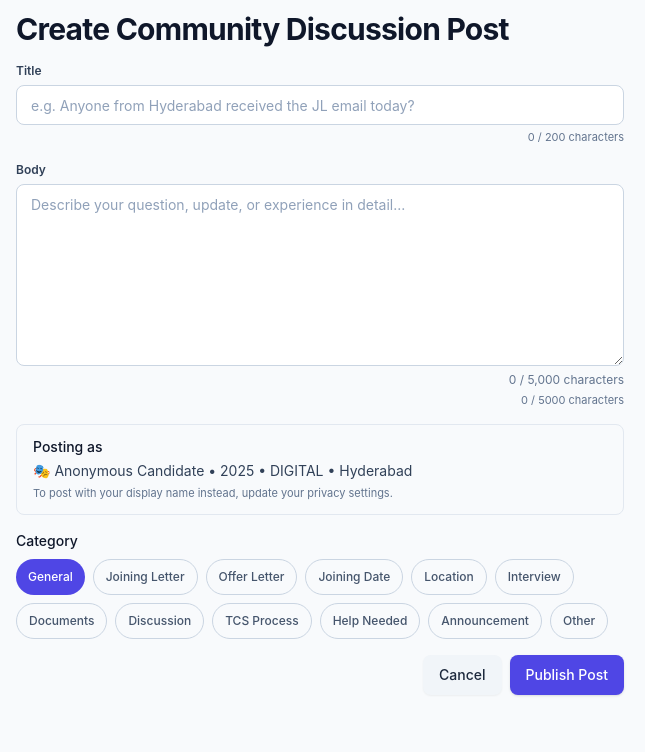
Test: CreatePostPage › requires title and body client-side before any request
This screenshot has width=645, height=752.
Click the button "Publish Post": coordinates (567, 674) top-left (510, 654), bottom-right (624, 694)
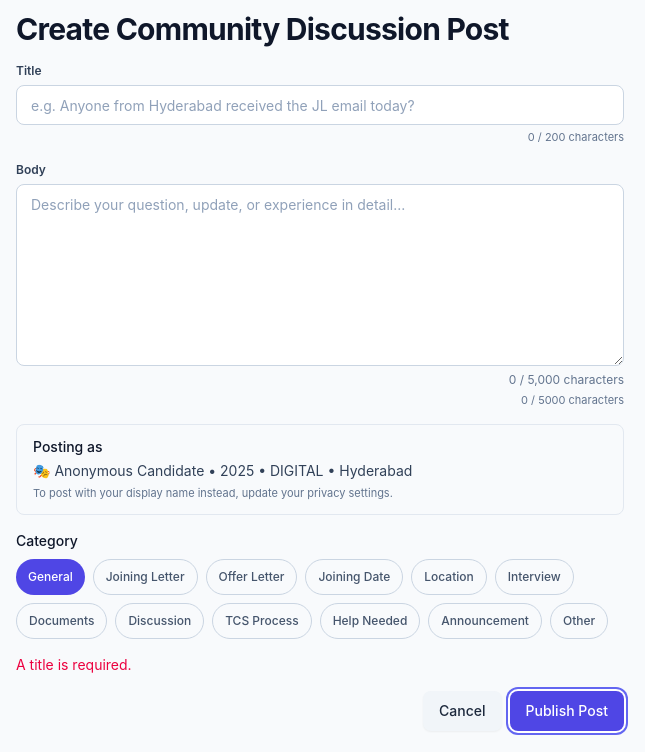
Result: the text "A title is required." is shown at top-left (16, 656), bottom-right (132, 672)
